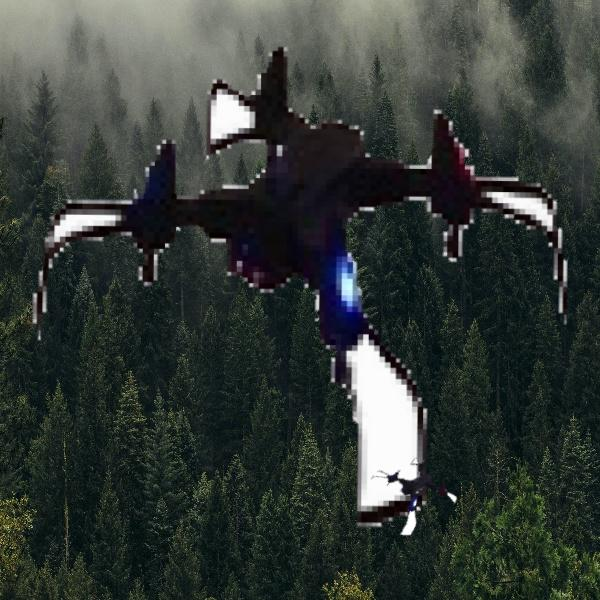drone: (16, 19, 570, 573), (363, 453, 456, 546)
